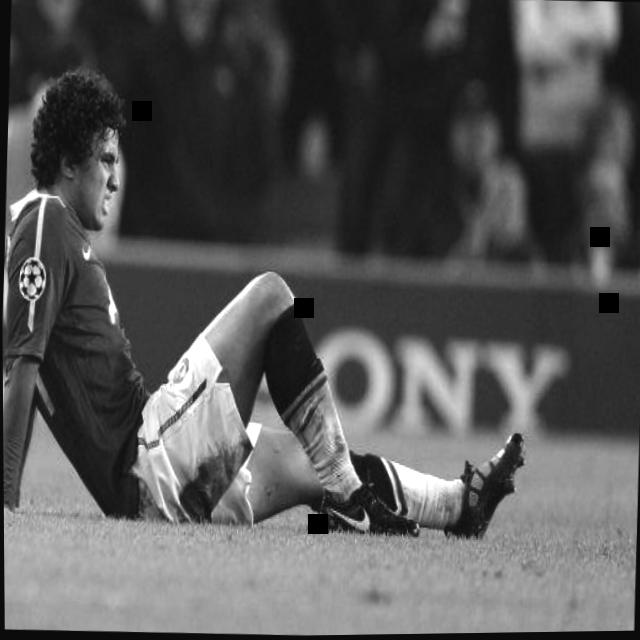Fall-Detected: (0, 52, 544, 557)
